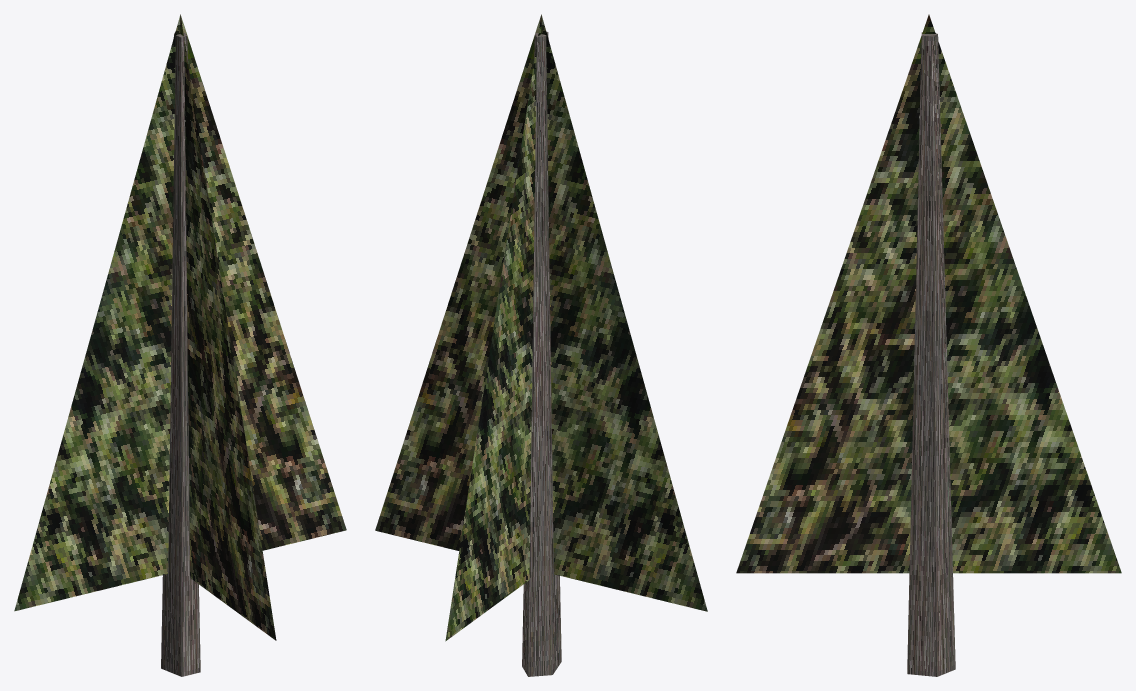
Rendered from tree.glb.
3 views of the same model, side by side, from view 1: azimuth 30°, elevation 25°; view 2: azimuth 150°, elevation 25°; view 3: azimuth 270°, elevation 25° (orthographic).
Parts seen in each view (by area): view 1: Plane, Plane.001, Cylinder; view 2: Plane, Plane.001, Cylinder; view 3: Plane.001, Cylinder.
Part boxes in pixels (<box>): Plane: <box>14,15,346,611</box>; Plane.001: <box>180,14,276,640</box>; Cylinder: <box>161,31,200,676</box>; Plane: <box>375,15,707,611</box>; Plane.001: <box>445,14,541,641</box>; Cylinder: <box>522,31,561,676</box>; Plane.001: <box>736,14,1121,573</box>; Cylinder: <box>907,32,955,676</box>.
Size of the model in its own units: 12.68 by 23.81 by 12.68.
3 materials, 3 textured.
